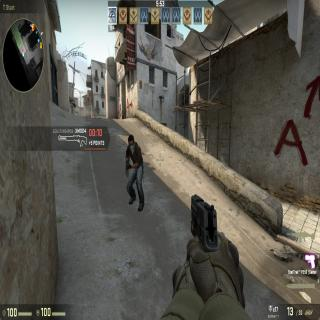T-Body: (125, 133, 144, 210)
T-Head: (128, 134, 136, 150)
